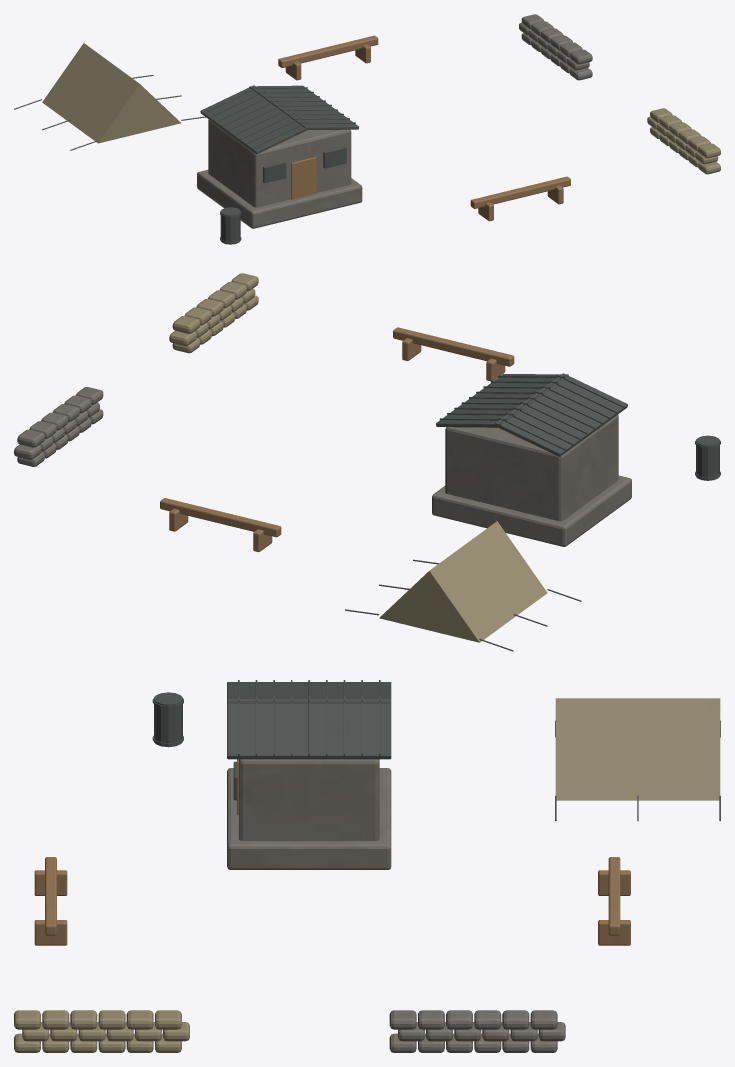
Rendered from hollow-lod0.glb.
The picture shows the model from 3 angles, top to bottom: view 1: azimuth 30°, elevation 25°; view 2: azimuth 150°, elevation 25°; view 3: azimuth 270°, elevation 25°; orthographic projection. The views are drawn at different scales.
Parts seen in each view (by area): view 1: hollow_hut_0, hollow_small_tent_5, hollow_breastwork_4, hollow_sandbags_3, hollow_barrier_2, hollow_barrier_1, hollow_drum_6; view 2: hollow_hut_0, hollow_small_tent_5, hollow_sandbags_3, hollow_breastwork_4, hollow_barrier_1, hollow_barrier_2, hollow_drum_6; view 3: hollow_hut_0, hollow_small_tent_5, hollow_breastwork_4, hollow_sandbags_3, hollow_barrier_1, hollow_barrier_2, hollow_drum_6.
Boxes of the visible parts, <box> form: hollow_hut_0: <box>197,85,362,228</box>; hollow_small_tent_5: <box>14,43,205,150</box>; hollow_breastwork_4: <box>519,14,592,80</box>; hollow_sandbags_3: <box>647,108,720,174</box>; hollow_barrier_2: <box>278,35,378,80</box>; hollow_barrier_1: <box>470,176,570,221</box>; hollow_drum_6: <box>220,207,241,244</box>; hollow_hut_0: <box>432,373,631,546</box>; hollow_small_tent_5: <box>345,521,581,651</box>; hollow_sandbags_3: <box>169,273,258,353</box>; hollow_breastwork_4: <box>14,387,103,466</box>; hollow_barrier_1: <box>393,327,514,381</box>; hollow_barrier_2: <box>160,498,281,552</box>; hollow_drum_6: <box>695,435,720,480</box>; hollow_hut_0: <box>227,680,391,869</box>; hollow_small_tent_5: <box>555,698,720,820</box>; hollow_breastwork_4: <box>389,1010,565,1052</box>; hollow_sandbags_3: <box>14,1010,189,1052</box>; hollow_barrier_1: <box>34,857,67,945</box>; hollow_barrier_2: <box>598,857,630,945</box>; hollow_drum_6: <box>152,692,183,747</box>.
Size of the model in its own units: 33.58 by 6.27 by 30.11.
Materials: 4 (4 with a texture image).
